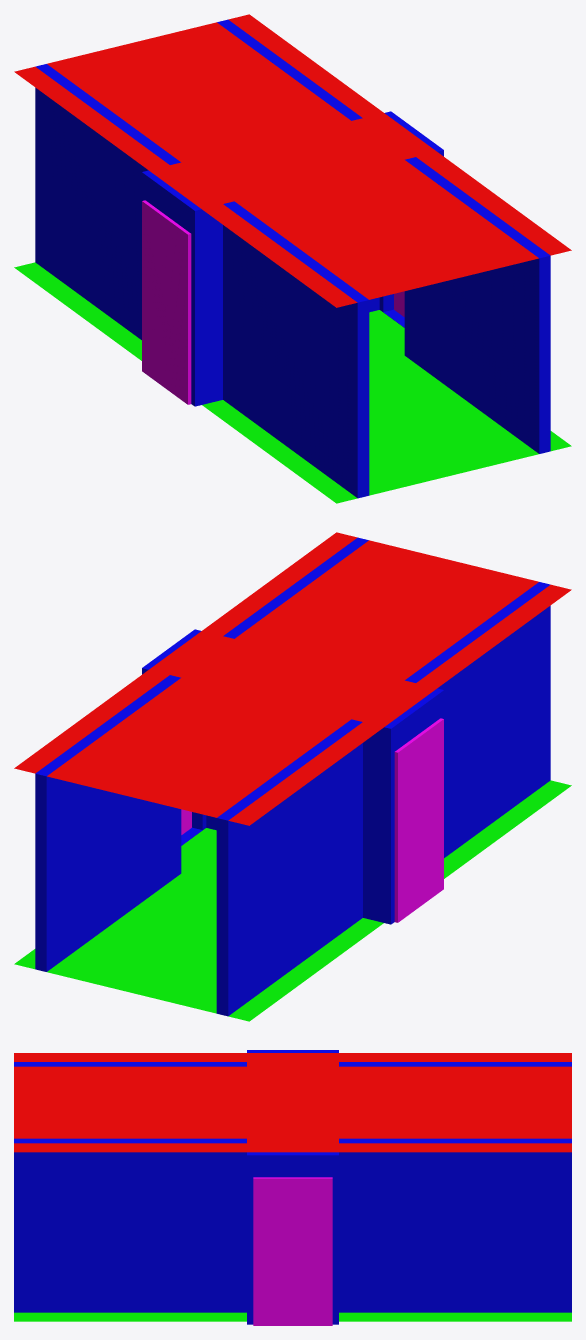
The model's file is hallway segment.fbx.
3 renders of one model, top to bottom at view 1: azimuth 30°, elevation 25°; view 2: azimuth 150°, elevation 25°; view 3: azimuth 270°, elevation 25°, orthographic. The views are drawn at different scales.
Visible parts, largest first — view 1: Ceiling, Wall (Right), Wall (Left), Floor, Door (Right); view 2: Ceiling, Wall (Right), Wall (Left), Floor, Door (Right); view 3: Wall (Left), Ceiling, Door (Left), Floor, Wall (Right).
Boxes of the visible parts, bbox=[...] form: Ceiling: bbox=[14, 14, 571, 307]; Wall (Right): bbox=[35, 64, 369, 498]; Wall (Left): bbox=[217, 19, 550, 453]; Floor: bbox=[14, 262, 571, 503]; Door (Right): bbox=[142, 200, 191, 404]; Ceiling: bbox=[14, 532, 571, 825]; Wall (Right): bbox=[216, 582, 550, 1016]; Wall (Left): bbox=[35, 537, 368, 971]; Floor: bbox=[14, 780, 571, 1021]; Door (Right): bbox=[394, 718, 443, 922]; Wall (Left): bbox=[14, 1138, 571, 1324]; Ceiling: bbox=[14, 1053, 571, 1152]; Door (Left): bbox=[253, 1177, 332, 1325]; Floor: bbox=[14, 1312, 571, 1321]; Wall (Right): bbox=[14, 1050, 571, 1066].
Bounding box in the file's own units: 630 × 460 × 1374.
